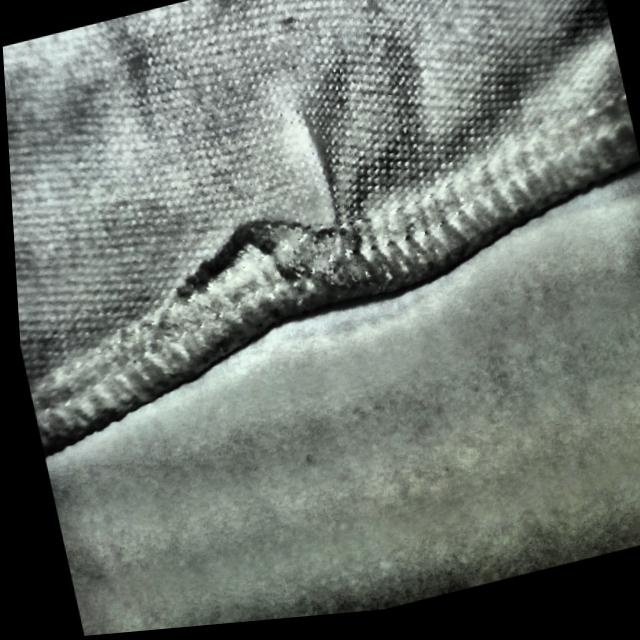seam: (140, 101, 414, 358)
